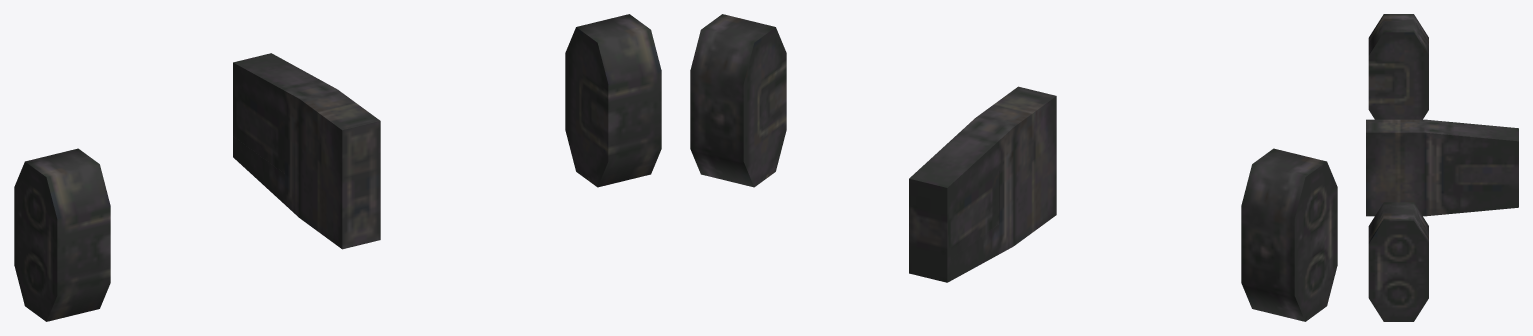
The model's file is segment_02_pair_1.glb.
3 views of the same model, side by side, from view 1: azimuth 30°, elevation 25°; view 2: azimuth 150°, elevation 25°; view 3: azimuth 270°, elevation 25° (orthographic). The views are drawn at different scales.
Parts seen in each view (by area): view 1: set_0_group_0; view 2: set_0_group_0; view 3: set_0_group_0.
Part boxes in pixels (<box>): set_0_group_0: <box>14,14,661,321</box>; set_0_group_0: <box>690,14,1337,321</box>; set_0_group_0: <box>1366,14,1518,321</box>.
Size of the model in its own units: 0.6016 by 0.1376 by 0.1882.
Materials: 1 (1 with a texture image).
